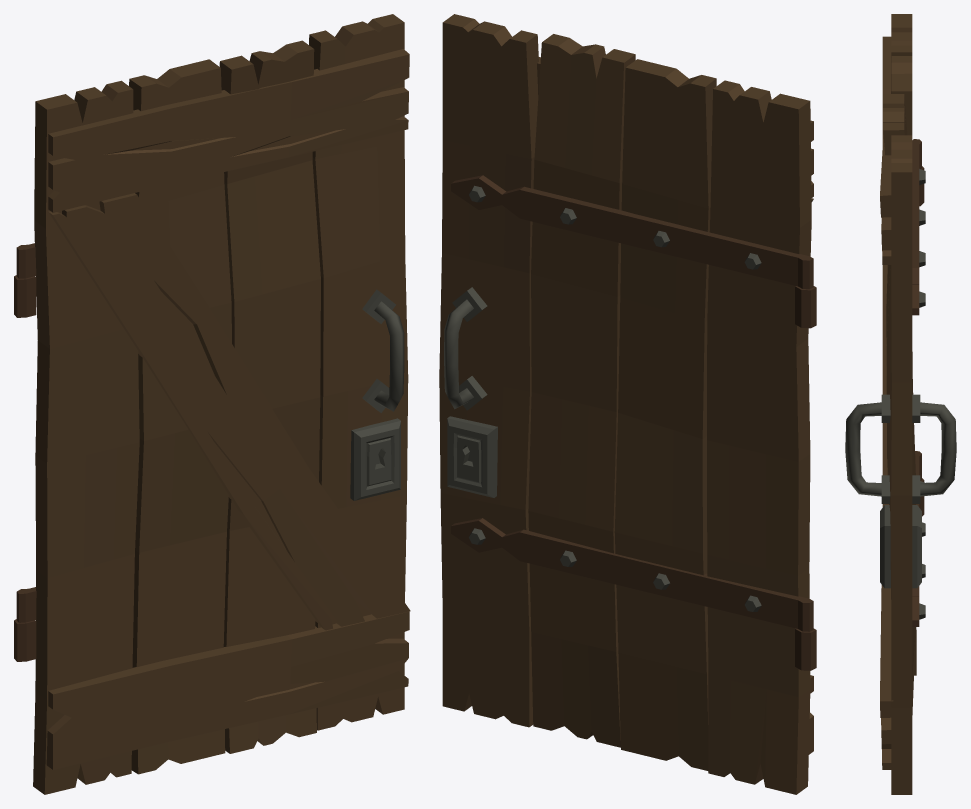
The model's file is wood_door_rectangle_L.gltf.
3 views of the same model, side by side, from view 1: azimuth 30°, elevation 25°; view 2: azimuth 150°, elevation 25°; view 3: azimuth 270°, elevation 25° (orthographic). The views are drawn at different scales.
Visible parts, largest first — view 1: Door_Basement_Left; view 2: Door_Basement_Left; view 3: Door_Basement_Left.
Boxes of the visible parts, x1,y1,x2,y2 form: Door_Basement_Left: (14,14,410,794); Door_Basement_Left: (439,14,816,794); Door_Basement_Left: (845,14,956,794).
Size of the model in its own units: 1.23 by 2.13 by 0.3459.
2 materials, 2 textured.
